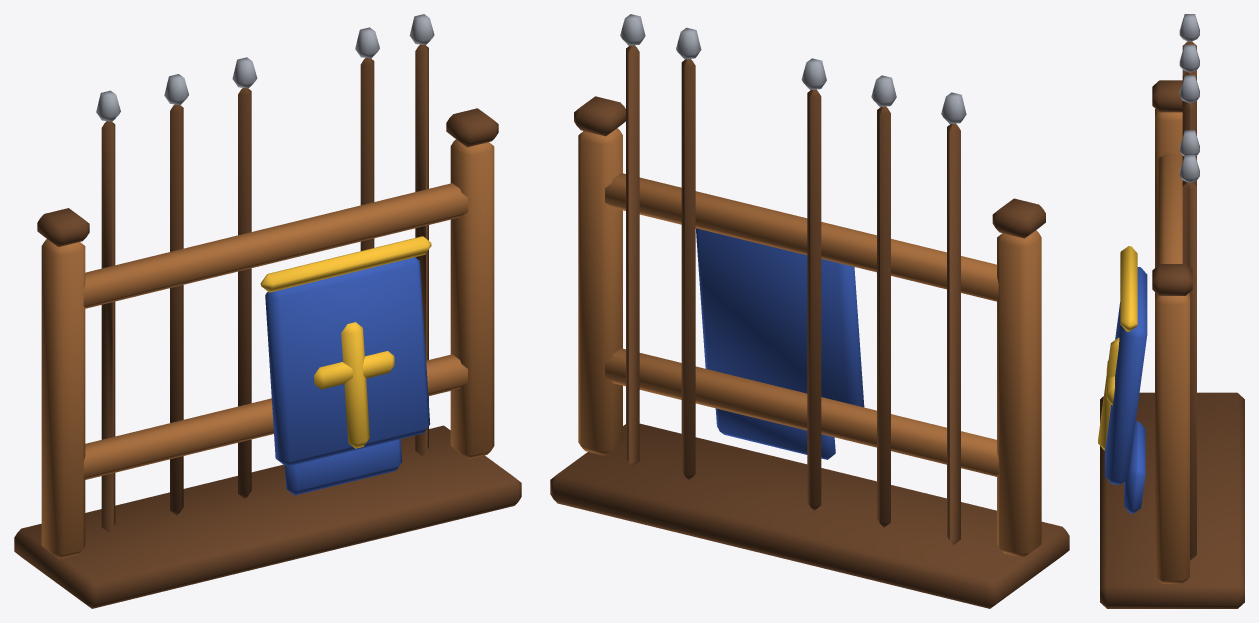
Rendered from P_MedWeaponRack.fbx.
3 views of the same model, side by side, from view 1: azimuth 30°, elevation 25°; view 2: azimuth 150°, elevation 25°; view 3: azimuth 270°, elevation 25° (orthographic). The views are drawn at different scales.
Visible parts, largest first — view 1: M_WeaponRack; view 2: M_WeaponRack; view 3: M_WeaponRack.
Part boxes in pixels (bbox=[...]): M_WeaponRack: bbox=[14, 14, 521, 608]; M_WeaponRack: bbox=[550, 14, 1069, 608]; M_WeaponRack: bbox=[1098, 14, 1244, 608].
Bounding box in the file's own units: 1.64 × 1.64 × 0.507.
1 material, 1 textured.
